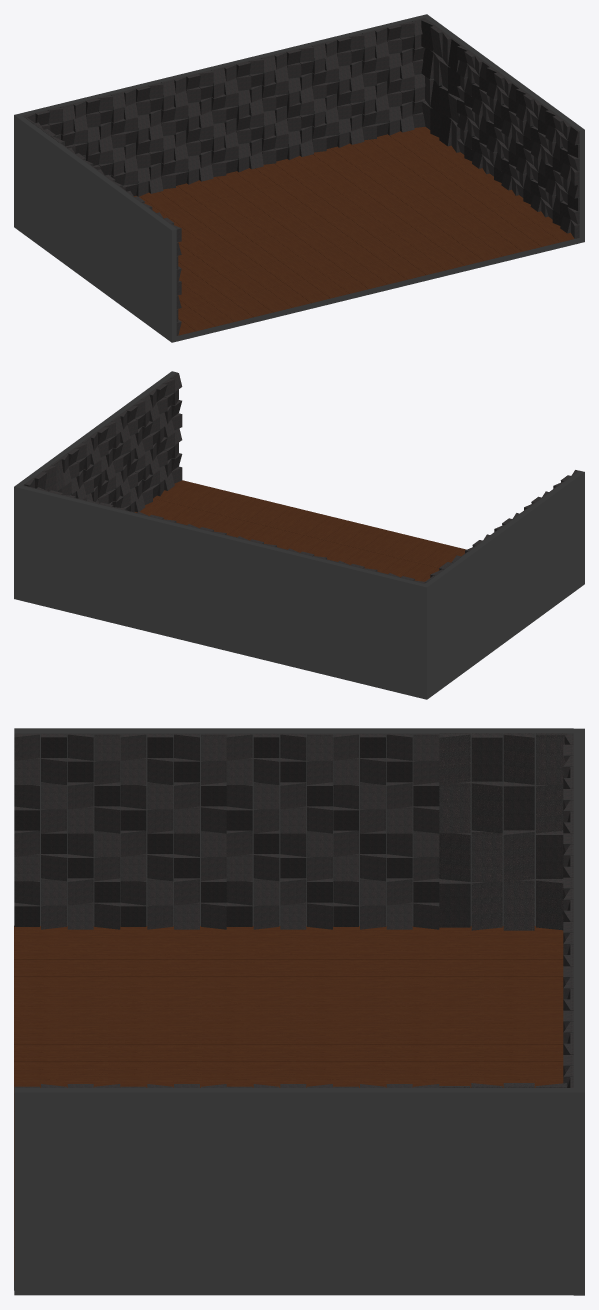
Rendered from room.glb.
The picture shows the model from 3 angles, top to bottom: view 1: azimuth 30°, elevation 25°; view 2: azimuth 150°, elevation 25°; view 3: azimuth 270°, elevation 25°; orthographic projection. The views are drawn at different scales.
Parts seen in each view (by area): view 1: panele, sciana_tyl_kostka, sciana_lewo, sciana_prawo_kostka_1, sciana_prawo_kostka_2, podloga, sciana_tyl, sciana_prawo, sciana_lewo_kostka_1; view 2: sciana_tyl, sciana_lewo, panele, sciana_prawo_kostka_1, sciana_tyl_kostka, sciana_prawo, sciana_prawo_kostka_2; view 3: sciana_prawo, panele, sciana_lewo_kostka_1, sciana_lewo_kostka_2, sciana_lewo, sciana_tyl, sciana_tyl_kostka, sciana_prawo_kostka_1.
Boxes of the visible parts, x1,y1,x2,y2 form: panele: (134, 126, 574, 335); sciana_tyl_kostka: (23, 18, 425, 196); sciana_lewo: (17, 116, 177, 342); sciana_prawo_kostka_1: (457, 45, 579, 238); sciana_prawo_kostka_2: (421, 19, 461, 152); podloga: (177, 238, 579, 341); sciana_tyl: (14, 14, 429, 228); sciana_prawo: (425, 16, 584, 242); sciana_lewo_kostka_1: (60, 143, 181, 335); sciana_tyl: (14, 484, 429, 699); sciana_lewo: (425, 470, 584, 697); panele: (134, 480, 466, 581); sciana_prawo_kostka_1: (60, 372, 182, 512); sciana_tyl_kostka: (23, 485, 425, 583); sciana_prawo: (17, 371, 176, 485); sciana_prawo_kostka_2: (24, 458, 64, 492); sciana_prawo: (14, 1088, 573, 1295); panele: (14, 926, 563, 1280); sciana_lewo_kostka_1: (14, 733, 439, 929); sciana_lewo_kostka_2: (439, 733, 566, 930); sciana_lewo: (14, 728, 573, 925); sciana_tyl: (573, 728, 584, 1295); sciana_tyl_kostka: (563, 733, 573, 1087); sciana_prawo_kostka_1: (14, 1084, 439, 1087).
Size of the model in its own units: 15.4 by 4 by 10.2.
3 materials, 2 textured.
